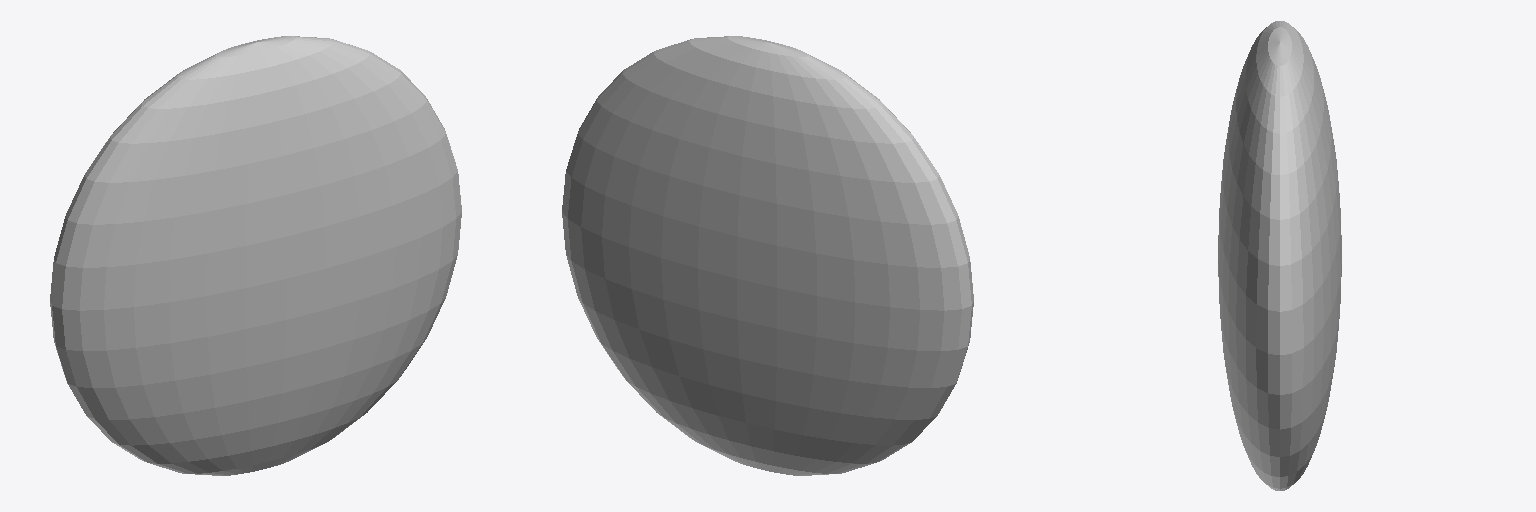
The model's file is lens_1.obj.
3 views of the same model, side by side, from view 1: azimuth 30°, elevation 25°; view 2: azimuth 150°, elevation 25°; view 3: azimuth 270°, elevation 25° (orthographic).
Parts seen in each view (by area): view 1: Sphere; view 2: Sphere; view 3: Sphere.
Part boxes in pixels (left/top/right/bottom): Sphere: left=50, top=36, right=461, bottom=475; Sphere: left=562, top=36, right=973, bottom=475; Sphere: left=1218, top=21, right=1341, bottom=490.
Size of the model in its own units: 2 by 2 by 0.5273.